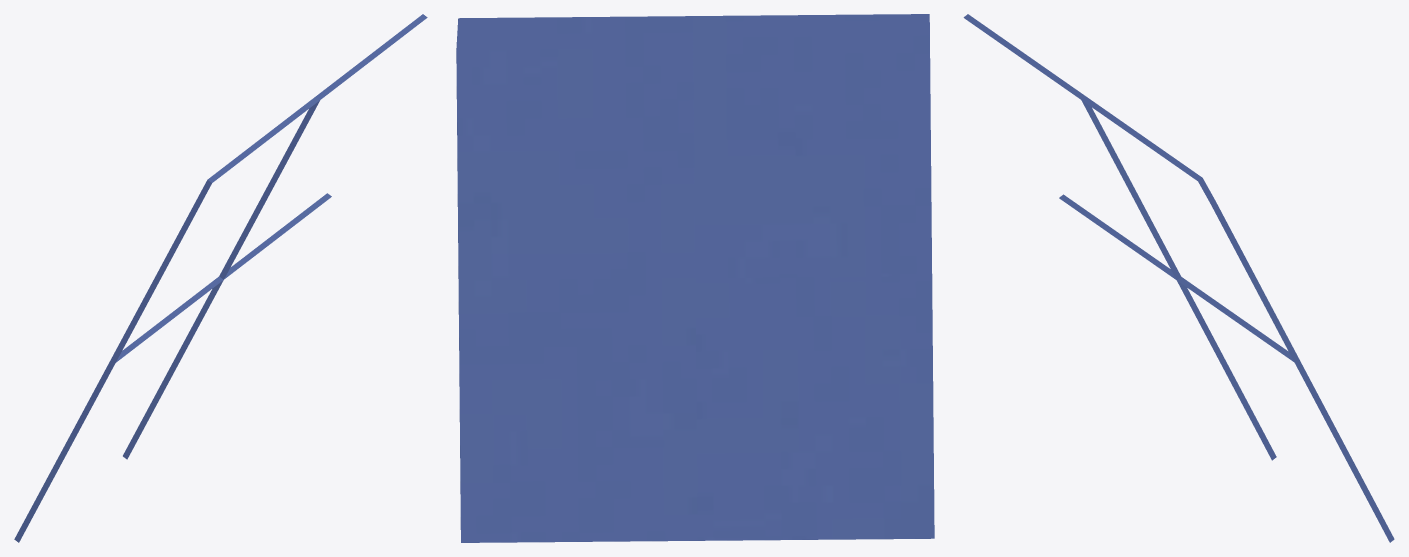
The picture shows the model from 3 angles, left to right: view 1: azimuth 30°, elevation 25°; view 2: azimuth 150°, elevation 25°; view 3: azimuth 270°, elevation 25°; orthographic projection. The views are drawn at different scales.
Bounding box in the file's own units: 19677 × 17686 × 16775.
Materials: 1 (1 with a texture image).
